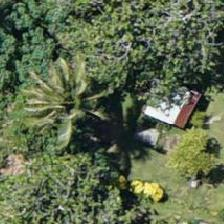coconut_tree: (23, 63, 113, 153)
